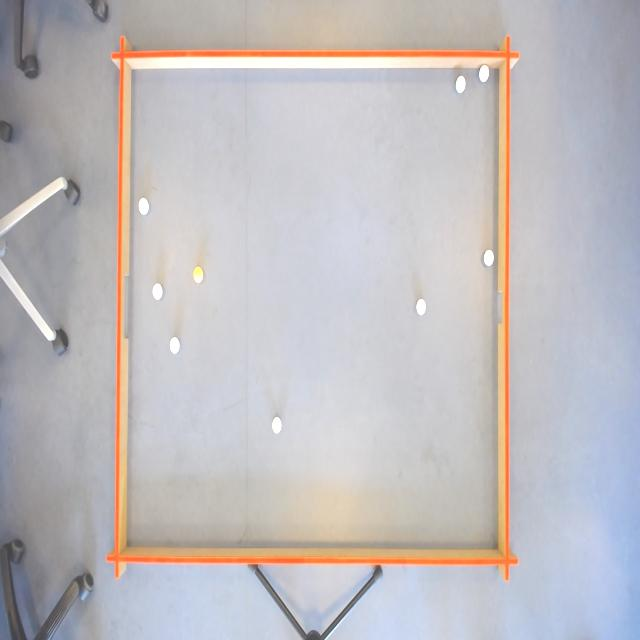orange_ball: (193, 266, 203, 284)
white_ball: (482, 247, 496, 268), (478, 62, 490, 84), (455, 74, 467, 96), (138, 196, 149, 217), (152, 281, 163, 302), (168, 337, 180, 356), (416, 298, 427, 318), (272, 416, 283, 435)
